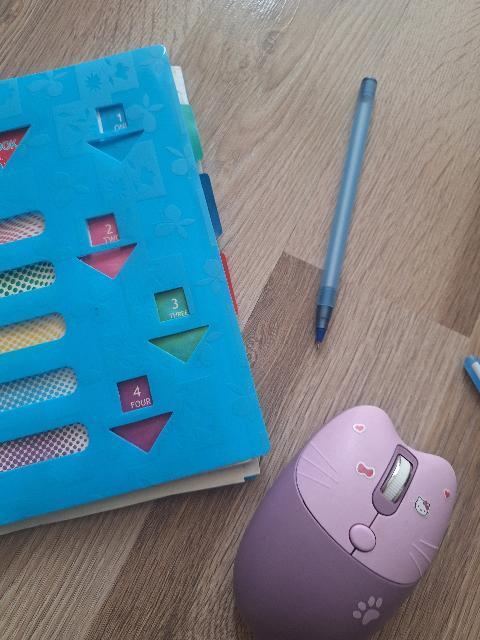writing_tool: (312, 78, 378, 347)
